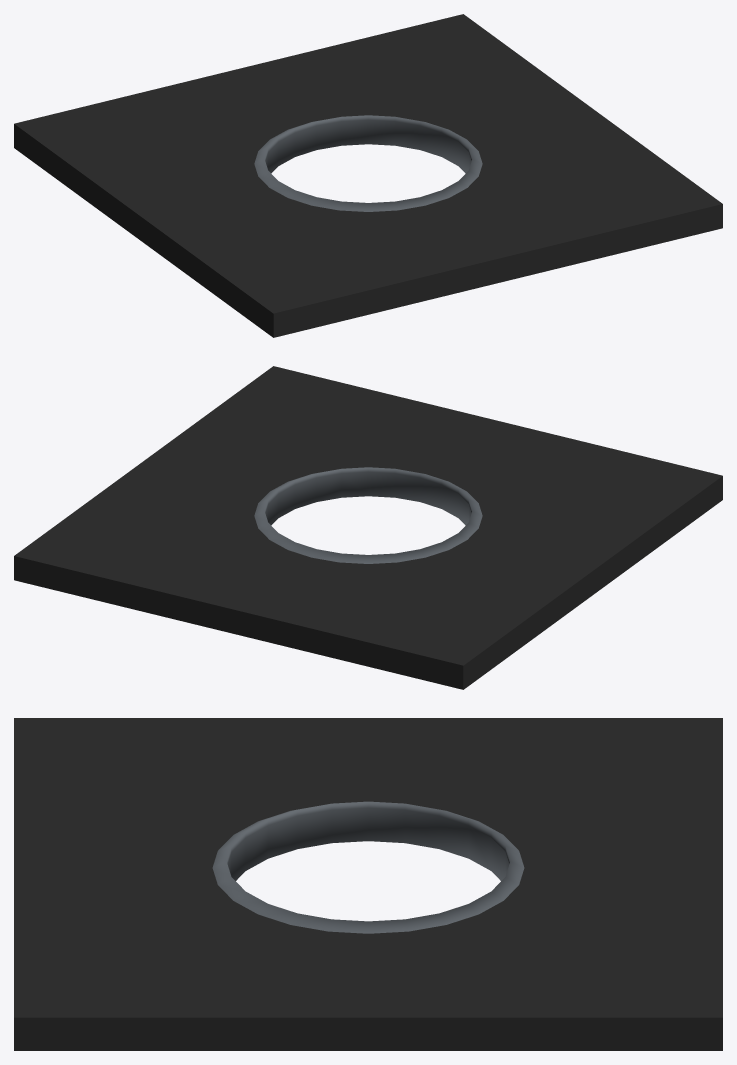
File: SlotMediumHole.fbx
3 views of the same model, one above another, from view 1: azimuth 30°, elevation 25°; view 2: azimuth 150°, elevation 25°; view 3: azimuth 270°, elevation 25° (orthographic). The views are drawn at different scales.
Parts seen in each view (by area): view 1: ThoracoscopicMedHole; view 2: ThoracoscopicMedHole; view 3: ThoracoscopicMedHole.
Part boxes in pixels (bbox=[...]): ThoracoscopicMedHole: bbox=[14, 14, 722, 337]; ThoracoscopicMedHole: bbox=[14, 366, 722, 689]; ThoracoscopicMedHole: bbox=[14, 718, 722, 1050].
Bounding box in the file's own units: 0.1 × 0.00617 × 0.1.
